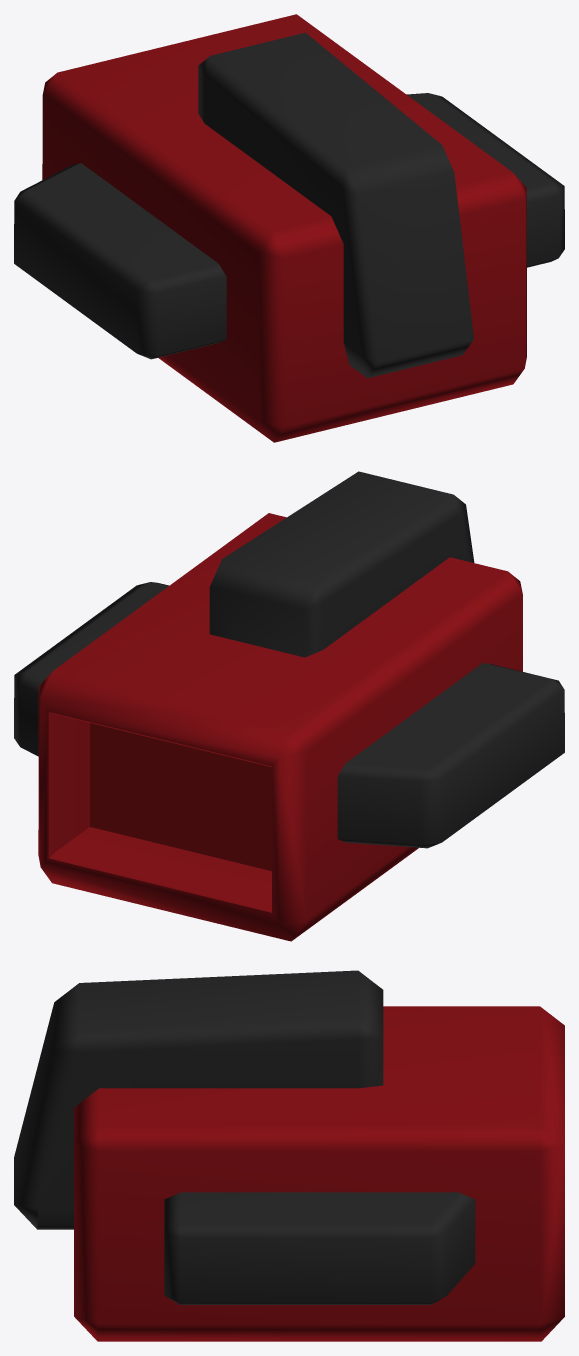
File: Ship_enemy_06_Engine.fbx
The picture shows the model from 3 angles, top to bottom: view 1: azimuth 30°, elevation 25°; view 2: azimuth 150°, elevation 25°; view 3: azimuth 270°, elevation 25°; orthographic projection. The views are drawn at different scales.
Visible parts, largest first — view 1: Ship_enemy_06_Engine; view 2: Ship_enemy_06_Engine; view 3: Ship_enemy_06_Engine.
Part boxes in pixels (x1,y1,x2,y2): Ship_enemy_06_Engine: [14, 14, 564, 442]; Ship_enemy_06_Engine: [14, 471, 564, 941]; Ship_enemy_06_Engine: [14, 970, 564, 1341].
Size of the model in its own units: 114 by 70.63 by 124.
